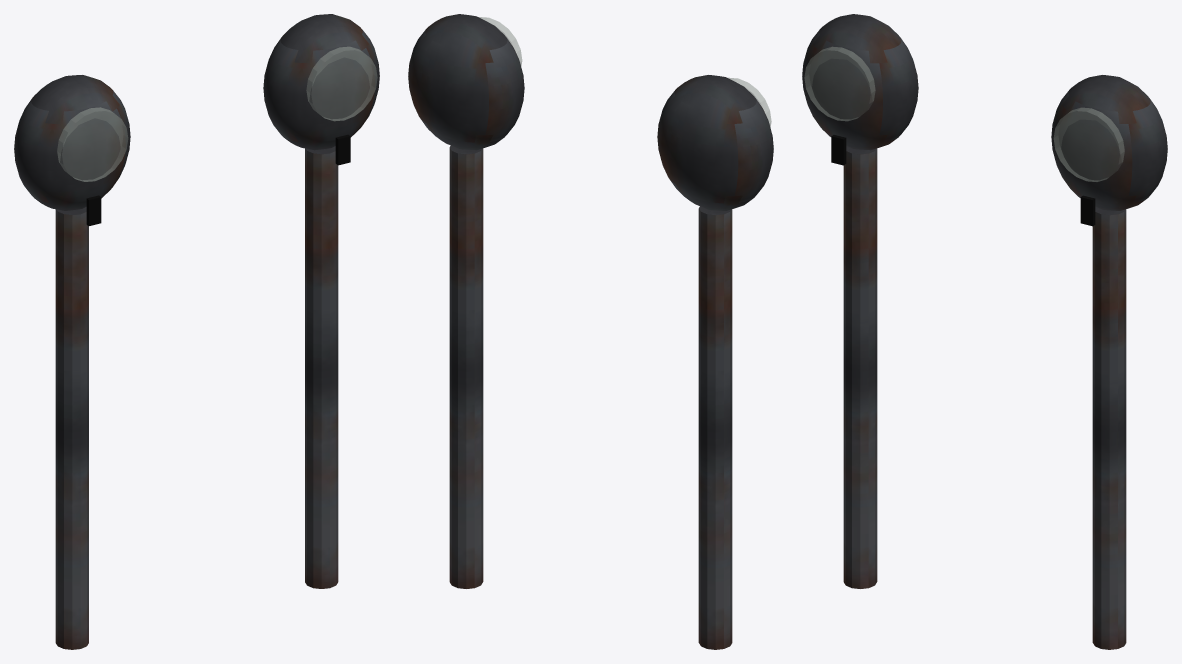
The model's file is ST22_ParkingMeter.glb.
The picture shows the model from 3 angles, left to right: view 1: azimuth 30°, elevation 25°; view 2: azimuth 150°, elevation 25°; view 3: azimuth 330°, elevation 25°; orthographic projection.
Visible parts, largest first — view 1: ST22_ParkingMeter; view 2: ST22_ParkingMeter; view 3: ST22_ParkingMeter.
Boxes of the visible parts, x1,y1,x2,y2 form: ST22_ParkingMeter: (14,14,379,649); ST22_ParkingMeter: (408,14,773,649); ST22_ParkingMeter: (802,14,1167,649).
Size of the model in its own units: 0.8603 by 1.3 by 0.1861.
3 materials, 3 textured.
